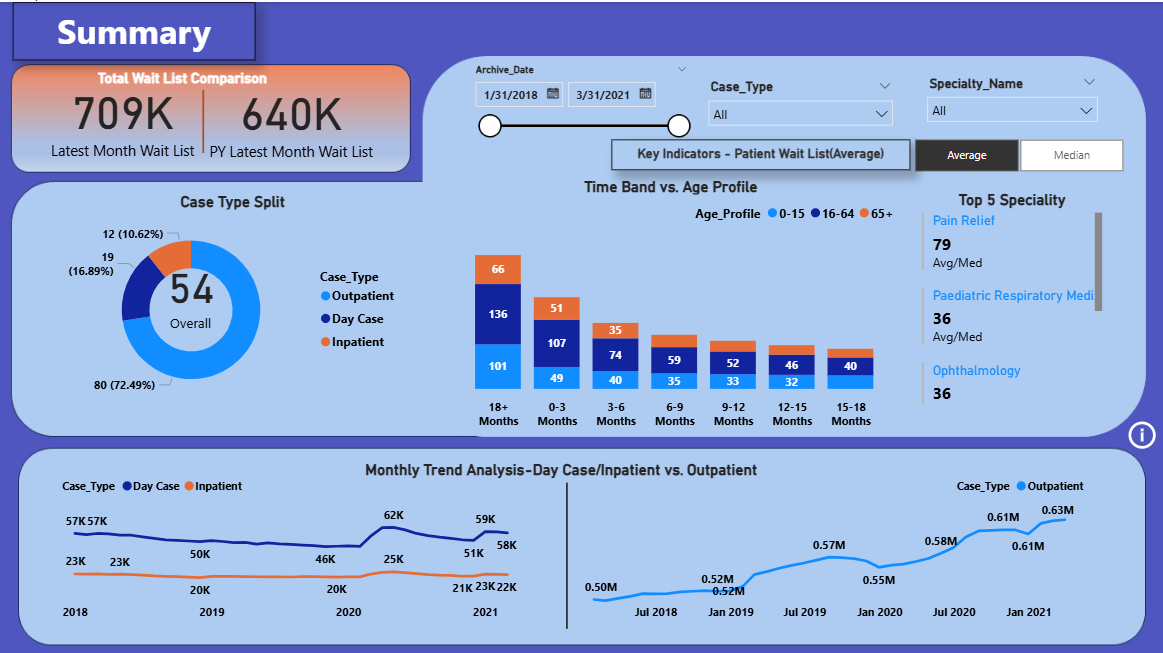

What the dashboard file says about the page in this screenshot:
{"tool":"powerbi","page":{"name":"Summary","canvas":[1280,720],"ordinal":0},"visuals":[{"type":"card","fields":{"Values":["All data.Latest Month Wait List"]},"box":[48,80,176,96],"z":0},{"type":"card","fields":{"Values":["All data.PY Latest Month Wait List"]},"box":[224.4,79.6,191.8,96.5],"z":1000},{"type":"slicer","fields":{"Values":["Calculation method.Calc Method"]},"box":[979.6,143.6,278.7,48.3],"z":2000},{"type":"donutChart","title":"Case Type Split","fields":{"Category":["All data.Case_Type"],"Y":["All data.Avg/Med"]},"box":[64,208,384,240],"z":3000},{"type":"columnChart","title":"Time Band vs. Age Profile","fields":{"Y":["All data.Avg/Med"],"Series":["All data.Age_Profile"],"Category":["All data.Time_Bands"]},"box":[482.6,191.8,509.1,283.5],"z":4000},{"type":"multiRowCard","title":"Top 5 Speciality","fields":{"Values":["All data.Avg/Med","All data.Specialty_Name"]},"box":[1008.6,207.5,207.5,240.1],"z":5000},{"type":"card","fields":{"Values":["All data.NoDataLeft"]},"box":[199.1,538.1,271.4,117],"z":6000},{"type":"lineChart","fields":{"Series":["All data.Case_Type"],"Y":["Sum(All data.Total)"],"Category":["All data.Archive_Date.Variation.Date Hierarchy.Year","All data.Archive_Date.Variation.Date Hierarchy.Quarter","All data.Archive_Date.Variation.Date Hierarchy.Month","All data.Archive_Date.Variation.Date Hierarchy.Day"]},"box":[63.9,511.5,512.7,176.1],"z":7000},{"type":"card","fields":{"Values":["All data.NoDataRight"]},"box":[780.6,545.3,300.4,102.5],"z":8000},{"type":"lineChart","fields":{"Series":["All data.Case_Type"],"Category":["All data.Archive_Date.Variation.Date Hierarchy.Year","All data.Archive_Date.Variation.Date Hierarchy.Quarter","All data.Archive_Date.Variation.Date Hierarchy.Month","All data.Archive_Date.Variation.Date Hierarchy.Day"],"Y":["Sum(All data.Total)"]},"box":[624,512,576,176],"z":9000},{"type":"slicer","fields":{"Values":["All data.Archive_Date"]},"box":[510.3,62.7,257,112.2],"z":10000},{"type":"slicer","fields":{"Values":["All data.Case_Type"]},"box":[768.5,79.6,223.2,63.9],"z":11000},{"type":"slicer","fields":{"Values":["All data.Specialty_Name"]},"box":[1008.6,76,207.5,63.9],"z":12000},{"type":"textbox","box":[15.7,0,266.6,63.9],"z":13000},{"type":"card","fields":{"Values":["All data.Avg/Med"]},"box":[100.1,243.7,220.8,149.6],"z":14000},{"type":"shape","title":"Total Wait List Comparison","box":[108.6,73.6,231.6,91.7],"z":15000},{"type":"shape","title":"Monthly Trend Analysis-Day Case/Inpatient vs. Outpatient","box":[401.7,503.1,442.8,184.6],"z":16000},{"type":"card","fields":{"Values":["All data.Dynamic Title"]},"box":[672,150.8,328.2,33.8],"z":17000},{"type":"actionButton","box":[1235.4,456,44.6,39.8],"z":18000}]}

Visuals, with their boxes in screenshot pixels (x1, y1, x2, y2), scaled from the page's 1280x720 canvas onto the 1163x653 screenshot:
card - All data.Latest Month Wait List: [x1=44, y1=73, x2=204, y2=160]
card - All data.PY Latest Month Wait List: [x1=204, y1=72, x2=378, y2=160]
slicer - Calculation method.Calc Method: [x1=890, y1=130, x2=1143, y2=174]
"Case Type Split" donutChart: [x1=58, y1=189, x2=407, y2=406]
"Time Band vs. Age Profile" columnChart: [x1=438, y1=174, x2=901, y2=431]
"Top 5 Speciality" multiRowCard: [x1=916, y1=188, x2=1105, y2=406]
card - All data.NoDataLeft: [x1=181, y1=488, x2=427, y2=594]
lineChart - All data.Case_Type x Sum(All data.Total): [x1=58, y1=464, x2=524, y2=624]
card - All data.NoDataRight: [x1=709, y1=495, x2=982, y2=588]
lineChart - All data.Case_Type x All data.Archive_Date.Variation.Date Hierarchy.Year: [x1=567, y1=464, x2=1090, y2=624]
slicer - All data.Archive_Date: [x1=464, y1=57, x2=697, y2=159]
slicer - All data.Case_Type: [x1=698, y1=72, x2=901, y2=130]
slicer - All data.Specialty_Name: [x1=916, y1=69, x2=1105, y2=127]
textbox: [x1=14, y1=0, x2=256, y2=58]
card - All data.Avg/Med: [x1=91, y1=221, x2=292, y2=357]
"Total Wait List Comparison" shape: [x1=99, y1=67, x2=309, y2=150]
"Monthly Trend Analysis-Day Case/Inpatient vs. Outpatient" shape: [x1=365, y1=456, x2=767, y2=624]
card - All data.Dynamic Title: [x1=611, y1=137, x2=909, y2=167]
actionButton: [x1=1122, y1=414, x2=1162, y2=450]
